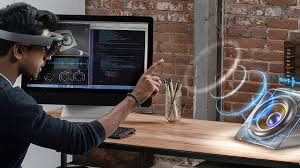hololens: (1, 28, 65, 60)
